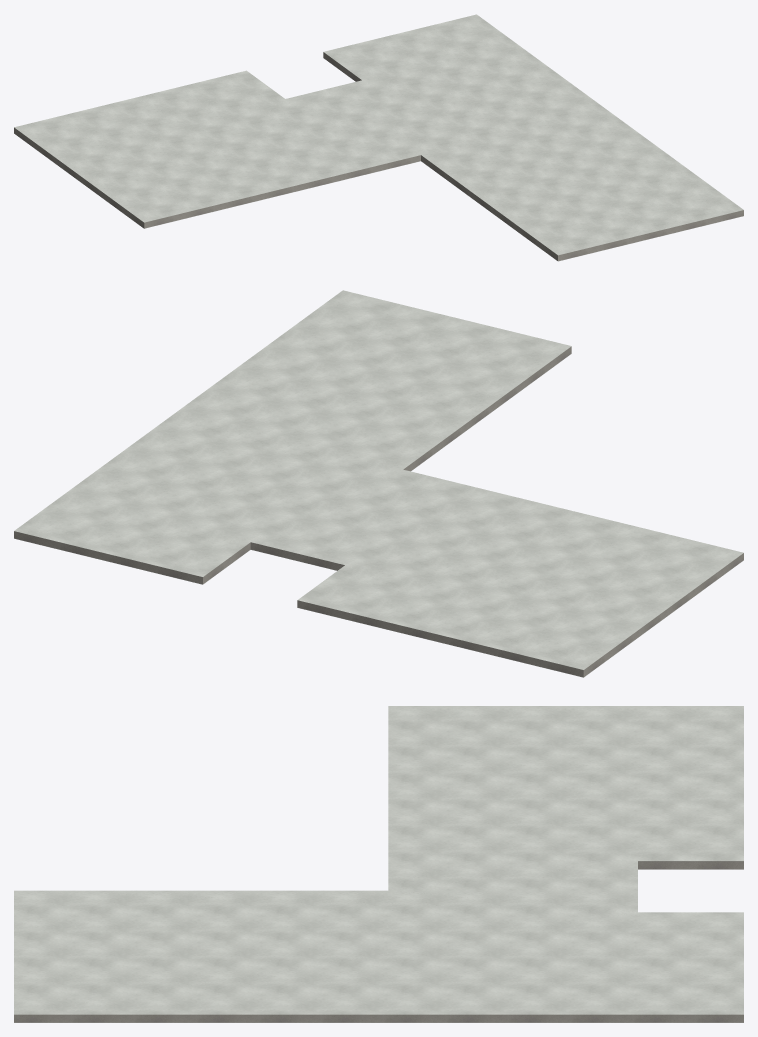
File: slab_t.glb
The picture shows the model from 3 angles, top to bottom: view 1: azimuth 30°, elevation 25°; view 2: azimuth 150°, elevation 25°; view 3: azimuth 270°, elevation 25°; orthographic projection. The views are drawn at different scales.
Parts seen in each view (by area): view 1: slab_t_vinyl_f, slab_t_conc_s, slab_t_ceil; view 2: slab_t_vinyl_f, slab_t_conc_s, slab_t_ceil; view 3: slab_t_vinyl_f, slab_t_conc_s, slab_t_ceil.
Part boxes in pixels (x1=…): slab_t_vinyl_f: x1=14, y1=14, x2=743, y2=255; slab_t_conc_s: x1=14, y1=52, x2=743, y2=261; slab_t_ceil: x1=14, y1=58, x2=743, y2=261; slab_t_vinyl_f: x1=14, y1=290, x2=743, y2=670; slab_t_conc_s: x1=14, y1=346, x2=743, y2=677; slab_t_ceil: x1=14, y1=354, x2=743, y2=677; slab_t_vinyl_f: x1=14, y1=706, x2=743, y2=1014; slab_t_conc_s: x1=14, y1=861, x2=743, y2=1022; slab_t_ceil: x1=14, y1=869, x2=743, y2=1022.
Bounding box in the file's own units: 23.4 × 0.356 × 23.4.
Materials: 7 (3 with a texture image).
